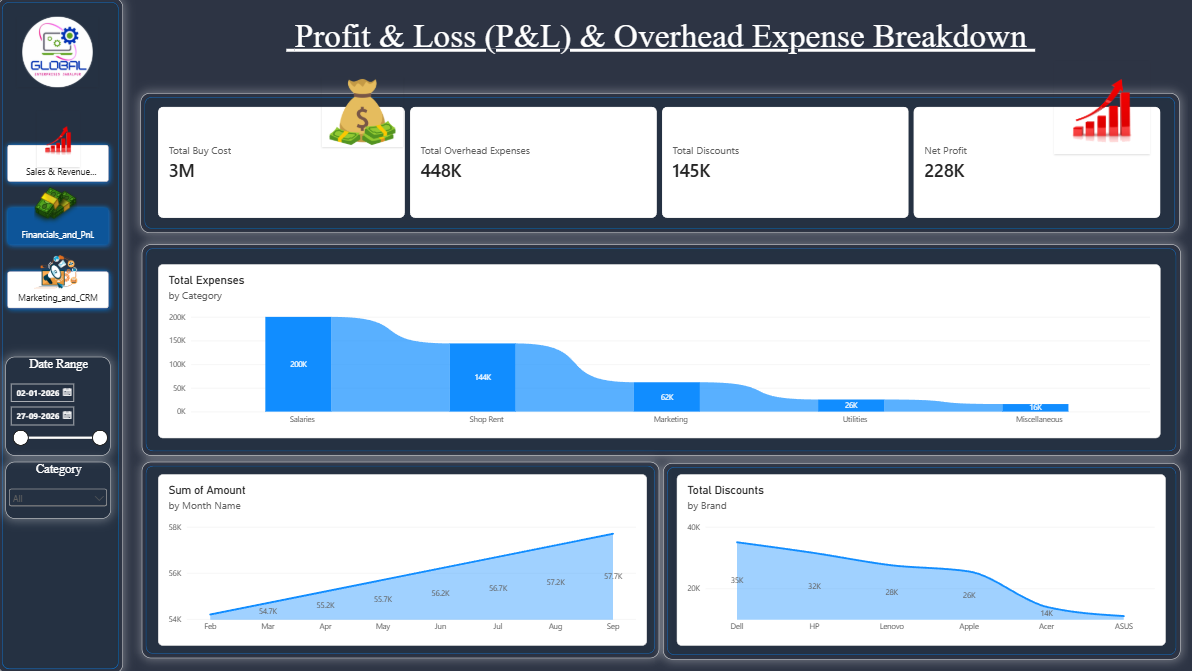

The dashboard page shown, as its layout file describes it:
{"tool":"powerbi","page":{"name":"Financials_and_PnL","canvas":[1920,1080],"ordinal":1},"visuals":[{"type":"shape","box":[228,152,1662,224],"z":0},{"type":"shape","box":[0,0,200,1080.6],"z":1000},{"type":"shape","box":[230,394,1662,338],"z":2000},{"type":"textbox","box":[199.7,30.9,1720.8,113.2],"z":3000},{"type":"cardVisual","fields":{"Data":["Table.Total Buy Cost","Table.Total Overhead Expenses","Table.Total Discounts","Table.Net Profit"]},"box":[256,174,1604,178],"z":4000},{"type":"slicer","title":"Category","fields":{"Values":["Expenses.Category"]},"box":[11.4,741.4,168.6,91.4],"z":5000},{"type":"ribbonChart","fields":{"Category":["Expenses.Category"],"Y":["Table.Total Expenses"]},"box":[256,426,1604,278],"z":6000},{"type":"shape","box":[230,742,828,314],"z":7000},{"type":"shape","box":[1064,744,828,314],"z":8000},{"type":"stackedAreaChart","fields":{"Category":["Calendar.Month Name"],"Y":["Sum(Expenses.Amount)"]},"box":[256,762,782,274],"z":9000},{"type":"stackedAreaChart","fields":{"Category":["Laptops.Brand"],"Y":["Table.Total Discounts"]},"box":[1086,762,782,274],"z":10000},{"type":"pageNavigator","box":[6,226,180,280],"z":11000},{"type":"image","box":[61.2,180,68.8,91.2],"z":12000},{"type":"image","box":[58.3,284.2,68.8,91.2],"z":13000},{"type":"image","box":[58.3,394.2,68.8,91.2],"z":14000},{"type":"image","box":[30,30,130,112.5],"z":15000},{"type":"slicer","title":"Date Range","fields":{"Values":["Calendar.Date"]},"box":[11,574,168,158],"z":16000},{"type":"image","box":[517.5,125,130,112.5],"z":17000},{"type":"image","box":[1690,100,152.5,150],"z":18000}]}

Visuals, with their boxes on the page's 1920x1080 design canvas (x1, y1, x2, y2). These are canvas units, not pixel positions in the 1192x671 screenshot, which may show the page scaled, cropped or inside an application window:
shape: 228:152:1890:376
shape: 0:0:200:1081
shape: 230:394:1892:732
textbox: 200:31:1920:144
cardVisual - Table.Total Buy Cost x Table.Total Overhead Expenses: 256:174:1860:352
"Category" slicer: 11:741:180:833
ribbonChart - Expenses.Category x Table.Total Expenses: 256:426:1860:704
shape: 230:742:1058:1056
shape: 1064:744:1892:1058
stackedAreaChart - Calendar.Month Name x Sum(Expenses.Amount): 256:762:1038:1036
stackedAreaChart - Laptops.Brand x Table.Total Discounts: 1086:762:1868:1036
pageNavigator: 6:226:186:506
image: 61:180:130:271
image: 58:284:127:375
image: 58:394:127:485
image: 30:30:160:142
"Date Range" slicer: 11:574:179:732
image: 518:125:648:238
image: 1690:100:1842:250
